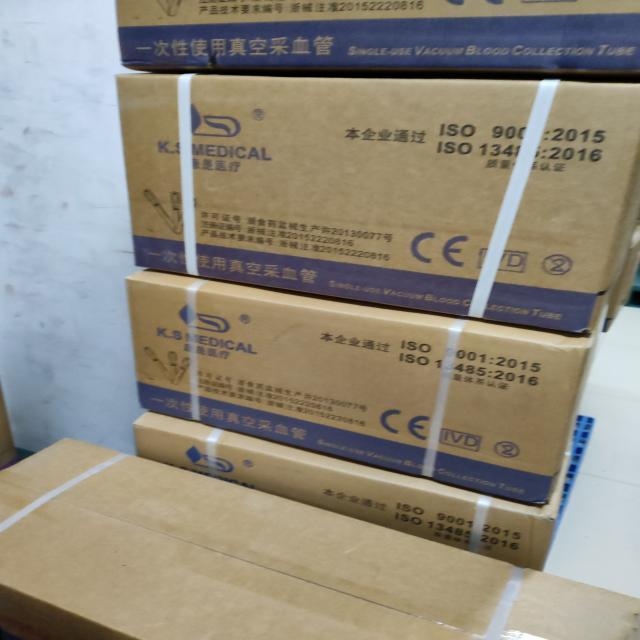box: (114, 72, 640, 338), (0, 436, 640, 640), (123, 268, 594, 508), (133, 408, 571, 570), (112, 0, 640, 75)
